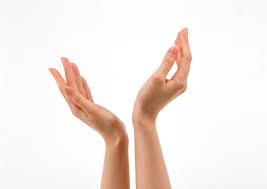hand: (137, 21, 201, 126), (40, 49, 114, 139)
